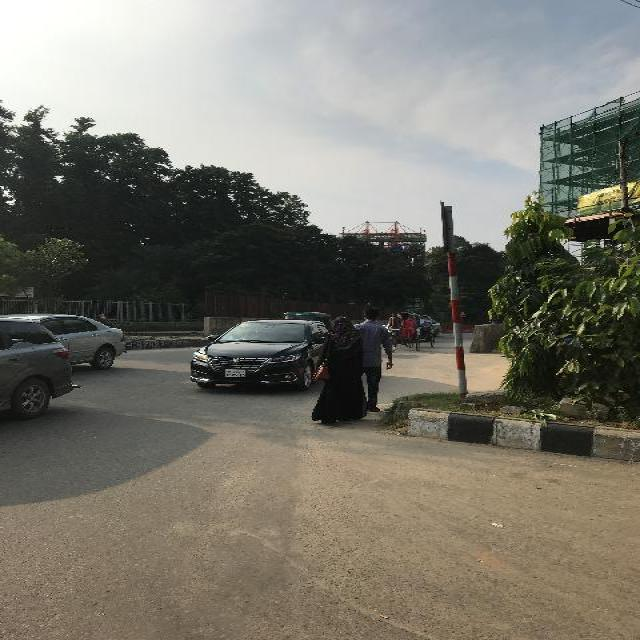car: (190, 322, 326, 392)
rickshaw: (387, 311, 421, 354), (101, 312, 139, 326), (421, 314, 435, 348)
suv: (0, 314, 73, 420)
